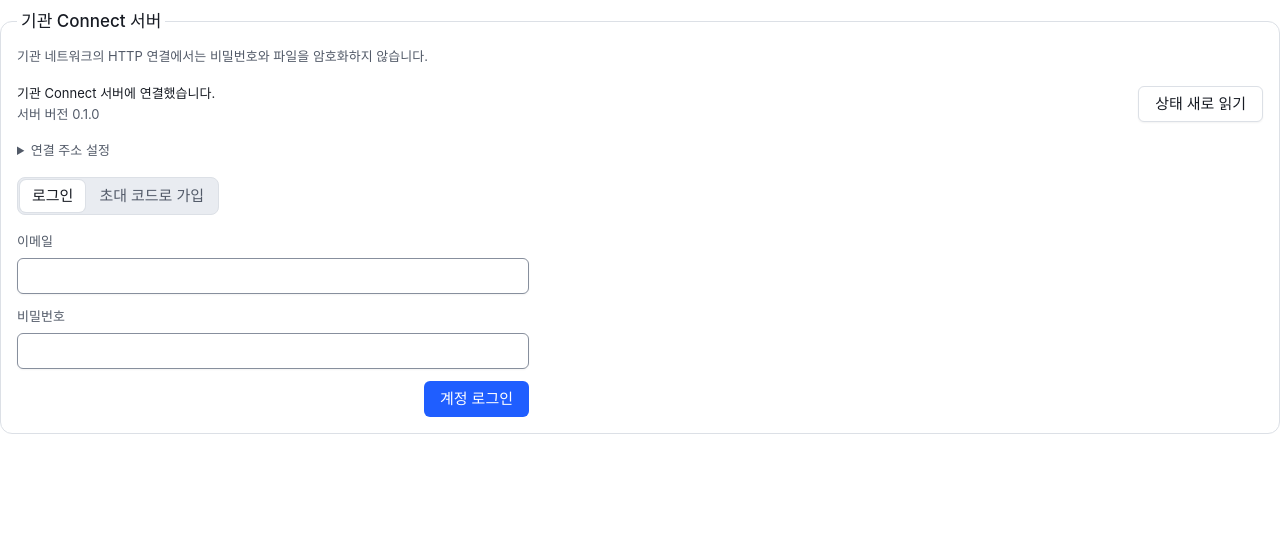
Test: keeps environment addresses disabled and offers no disconnect
Check: the text "기관 Connect 서버에 연결했습니다." is shown, box [17,83,215,104]
Click the heading "연결 주소 설정" at [70, 150], box [31,142,110,158]
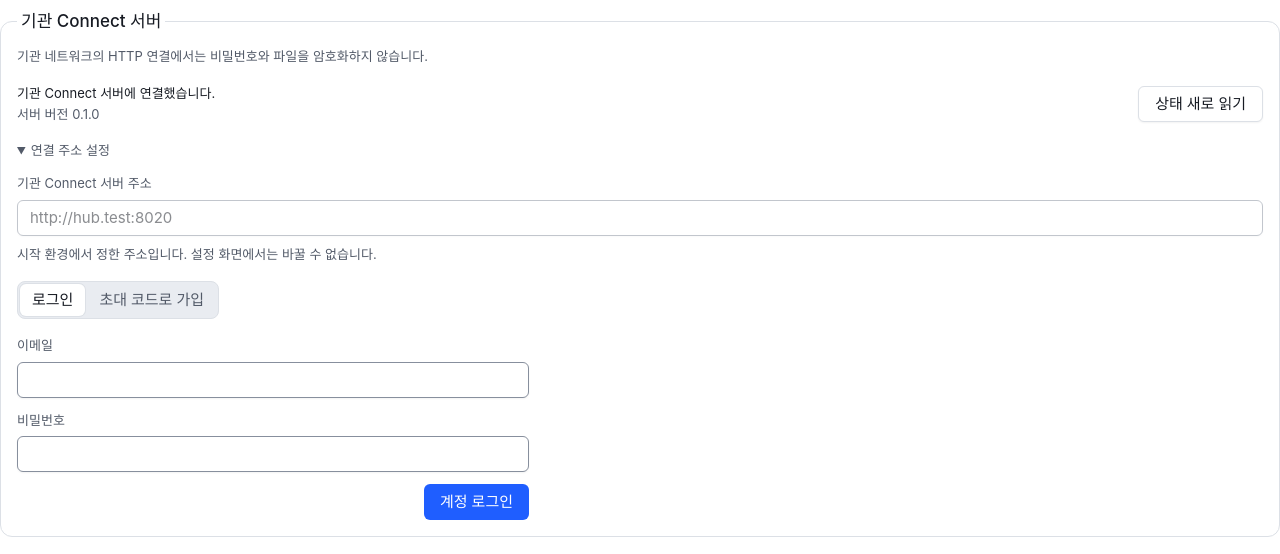
Check: the field labelled "기관 Connect 서버 주소" is disabled, box [17,200,1263,236]
Check: the text "시작 환경에서 정한 주소입니다. 설정 화면에서는 바꿀 수 없습니다." is shown, box [17,246,377,262]
